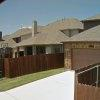Chimney: (28, 13, 41, 37)
